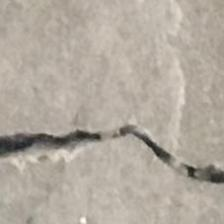Crack: (0, 43, 224, 224)
